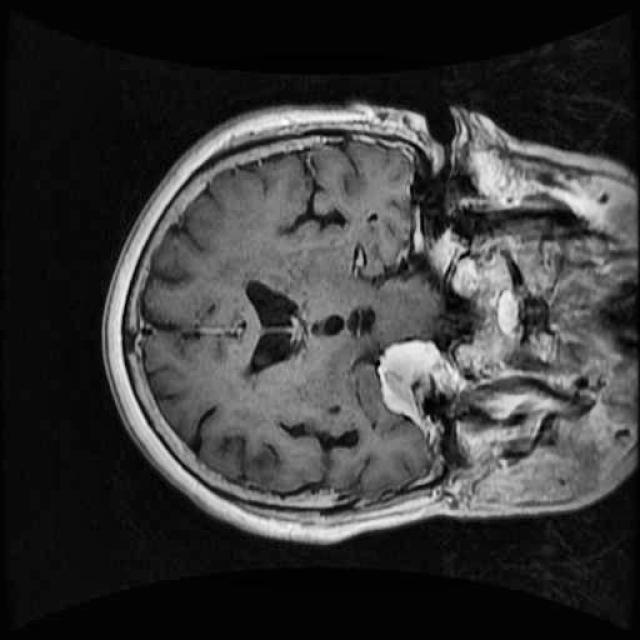Tumor: (360, 320, 491, 454)
